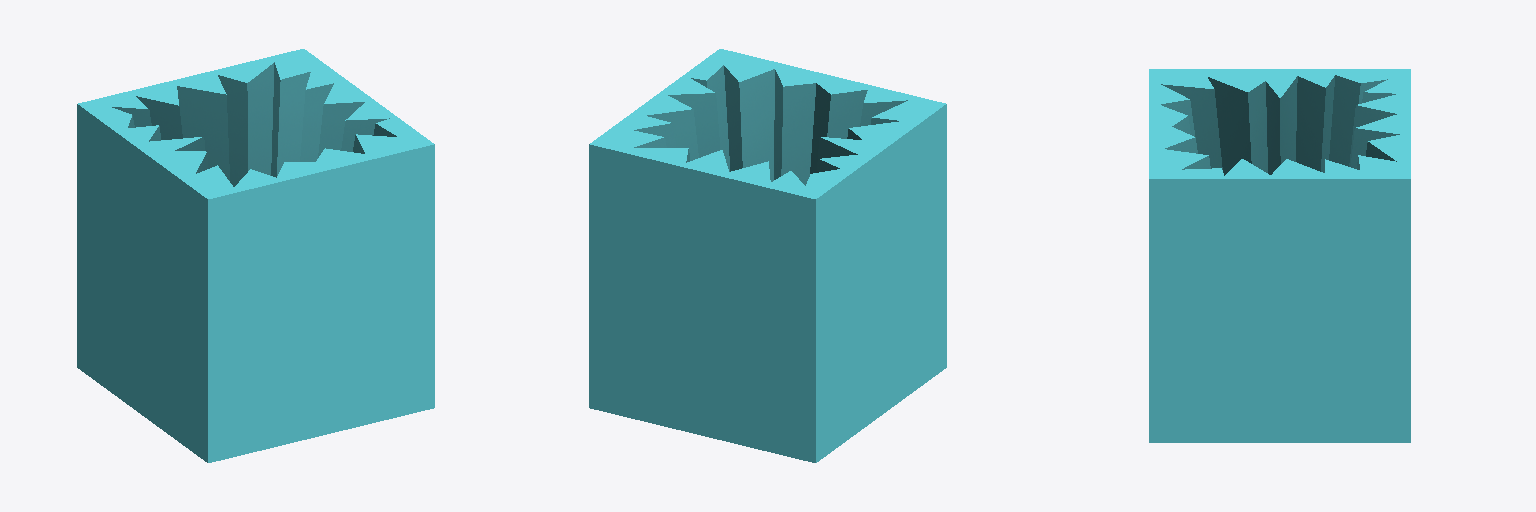
The picture shows the model from 3 angles: view 1: azimuth 30°, elevation 25°; view 2: azimuth 150°, elevation 25°; view 3: azimuth 270°, elevation 25°; orthographic projection.
Visible parts, largest first — view 1: Plane; view 2: Plane; view 3: Plane.
Boxes of the visible parts, box(x1,y1,x2,y2) form: Plane: box(77, 49, 434, 462); Plane: box(589, 49, 946, 462); Plane: box(1149, 69, 1410, 442).
Bounding box in the file's own units: 2 × 2.22 × 2.
Materials: 1 (1 with a texture image).